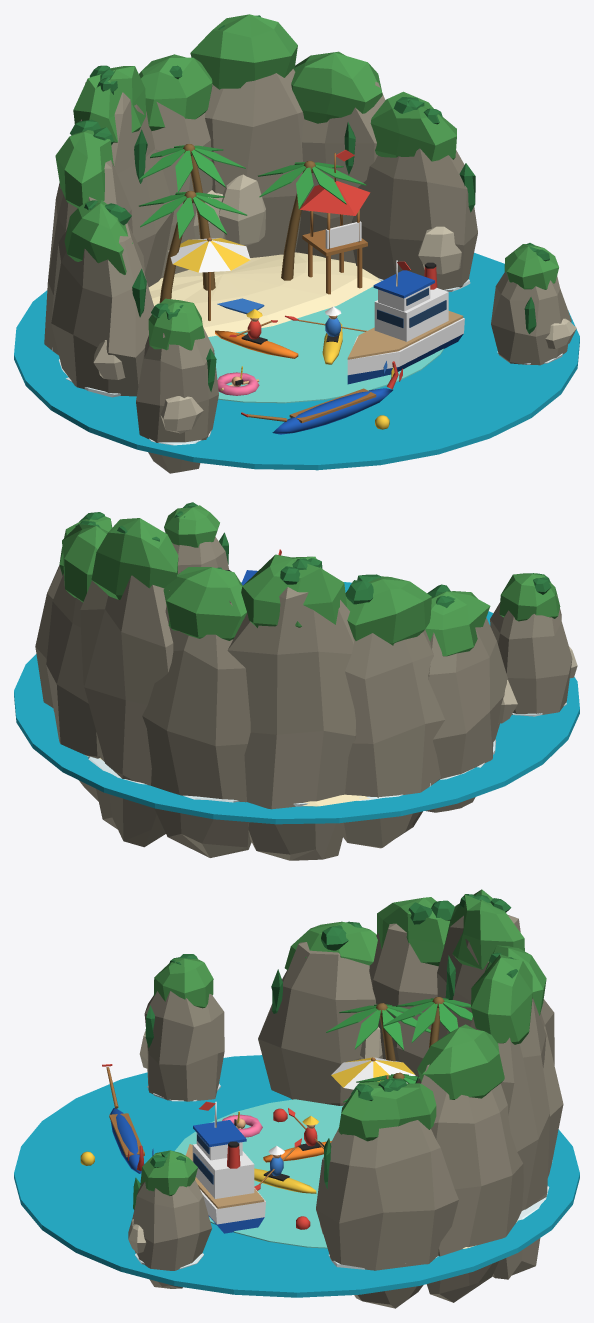
Rendered from loc_phiphi.glb.
3 views of the same model, one above another, from view 1: azimuth 30°, elevation 25°; view 2: azimuth 150°, elevation 25°; view 3: azimuth 270°, elevation 25° (orthographic).
Visible parts, largest first — view 1: Body_Rock, Body_Sea, Body_Moss, Body_Shallow, Body_Sand, Body_RockLight, Body_White, Body_Palm, Body_Moss2, Body_HullBlue, Body_Wood, Body_Trunk (+7 smaller); view 2: Body_Rock, Body_Moss, Body_Sea, Body_Moss2, Body_Foam, Body_RockLight; view 3: Body_Rock, Body_Sea, Body_Moss, Body_Shallow, Body_White, Body_Moss2, Body_Palm, Body_HullBlue, Body_Yellow, Body_Red, Body_RockLight, Body_Trunk (+3 smaller).
Boxes of the visible parts, left/top/right/bottom form: Body_Rock: left=44, top=69, right=571, bottom=473; Body_Sea: left=14, top=252, right=579, bottom=470; Body_Moss: left=55, top=14, right=558, bottom=350; Body_Shallow: left=208, top=281, right=443, bottom=403; Body_Sand: left=148, top=252, right=380, bottom=336; Body_RockLight: left=93, top=174, right=576, bottom=433; Body_White: left=168, top=221, right=464, bottom=375; Body_Palm: left=139, top=145, right=366, bottom=239; Body_Moss2: left=70, top=15, right=549, bottom=391; Body_HullBlue: left=272, top=270, right=463, bottom=434; Body_Wood: left=207, top=153, right=376, bottom=423; Body_Trunk: left=159, top=144, right=315, bottom=303; Body_Rock: left=35, top=537, right=572, bottom=860; Body_Moss: left=59, top=505, right=560, bottom=656; Body_Sea: left=14, top=582, right=579, bottom=824; Body_Moss2: left=75, top=502, right=551, bottom=607; Body_Foam: left=52, top=702, right=566, bottom=806; Body_RockLight: left=498, top=646, right=577, bottom=723; Body_Rock: left=132, top=914, right=563, bottom=1308; Body_Sea: left=14, top=1055, right=579, bottom=1297; Body_Moss: left=140, top=889, right=546, bottom=1195; Body_Shallow: left=175, top=1099, right=343, bottom=1248; Body_White: left=192, top=1057, right=415, bottom=1224; Body_Moss2: left=133, top=894, right=517, bottom=1209; Body_Palm: left=326, top=998, right=472, bottom=1102; Body_HullBlue: left=110, top=1108, right=264, bottom=1233; Body_Yellow: left=80, top=1057, right=414, bottom=1193; Body_Red: left=102, top=1064, right=387, bottom=1229; Body_RockLight: left=128, top=1027, right=382, bottom=1253; Body_Trunk: left=376, top=997, right=444, bottom=1079.
Bounding box in the file's own units: 10 × 6.3 × 10.
